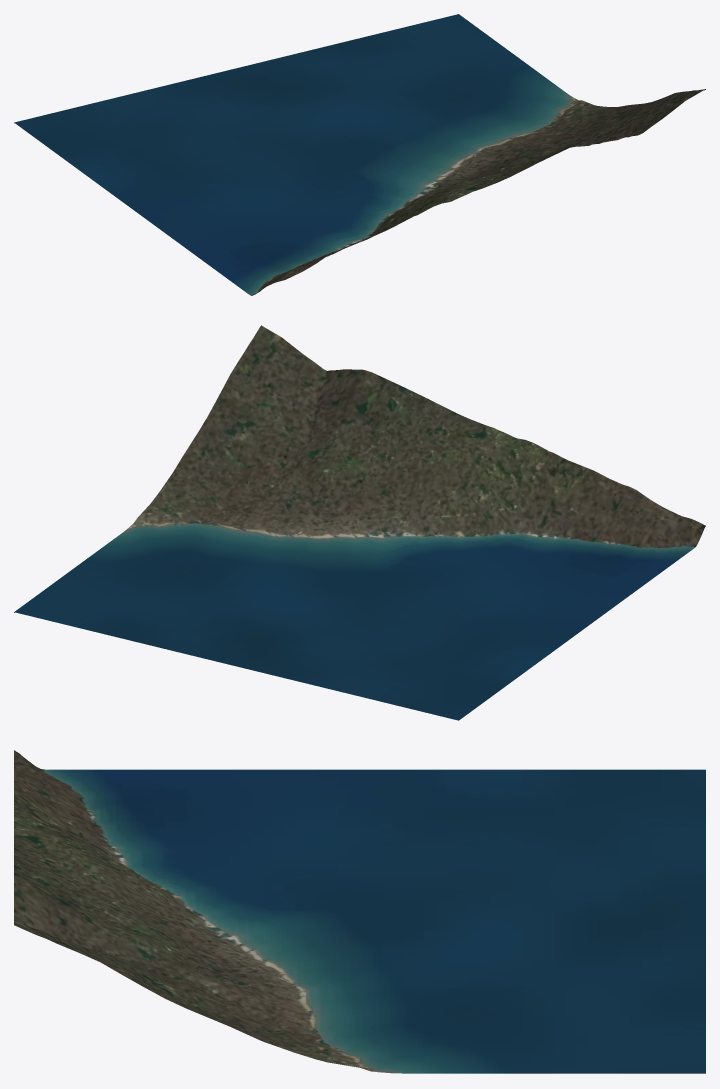
3 renders of one model, top to bottom at view 1: azimuth 30°, elevation 25°; view 2: azimuth 150°, elevation 25°; view 3: azimuth 270°, elevation 25°, orthographic. The views are drawn at different scales.
Size of the model in its own units: 500 by 115 by 481.
1 material, 1 textured.
